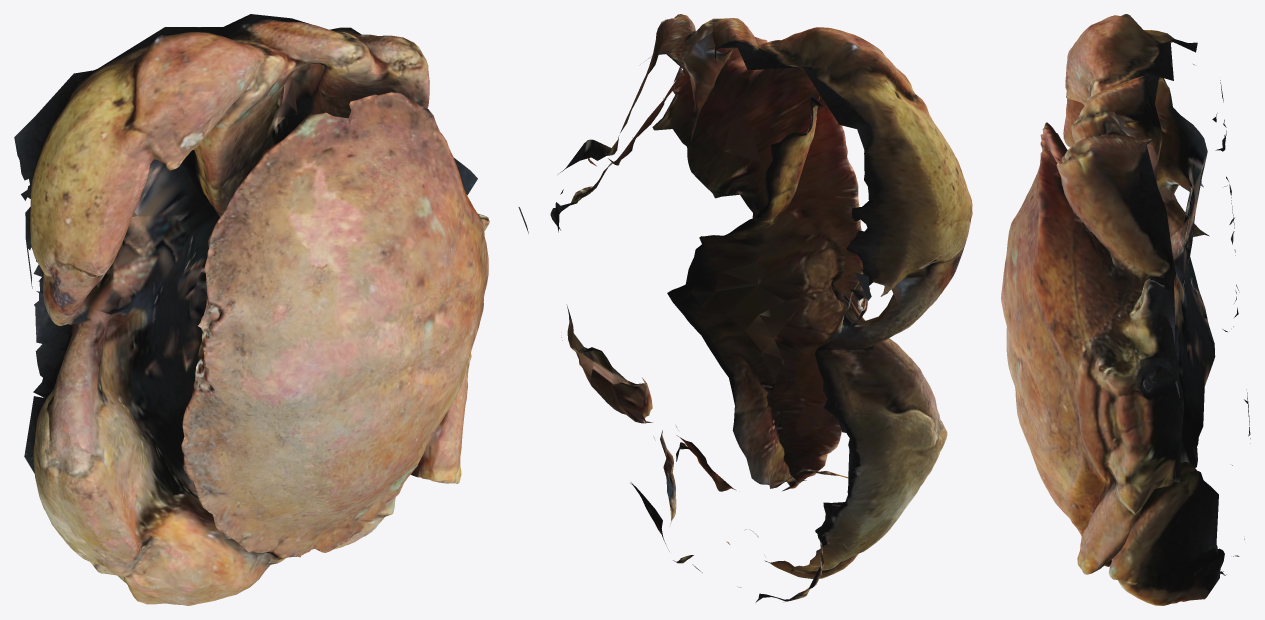
The model's file is Malla_con_textura_1.gltf.
3 views of the same model, side by side, from view 1: azimuth 30°, elevation 25°; view 2: azimuth 150°, elevation 25°; view 3: azimuth 270°, elevation 25° (orthographic). The views are drawn at different scales.
Bounding box in the file's own units: 18.7 × 22.57 × 9.74.
1 material, 1 textured.
